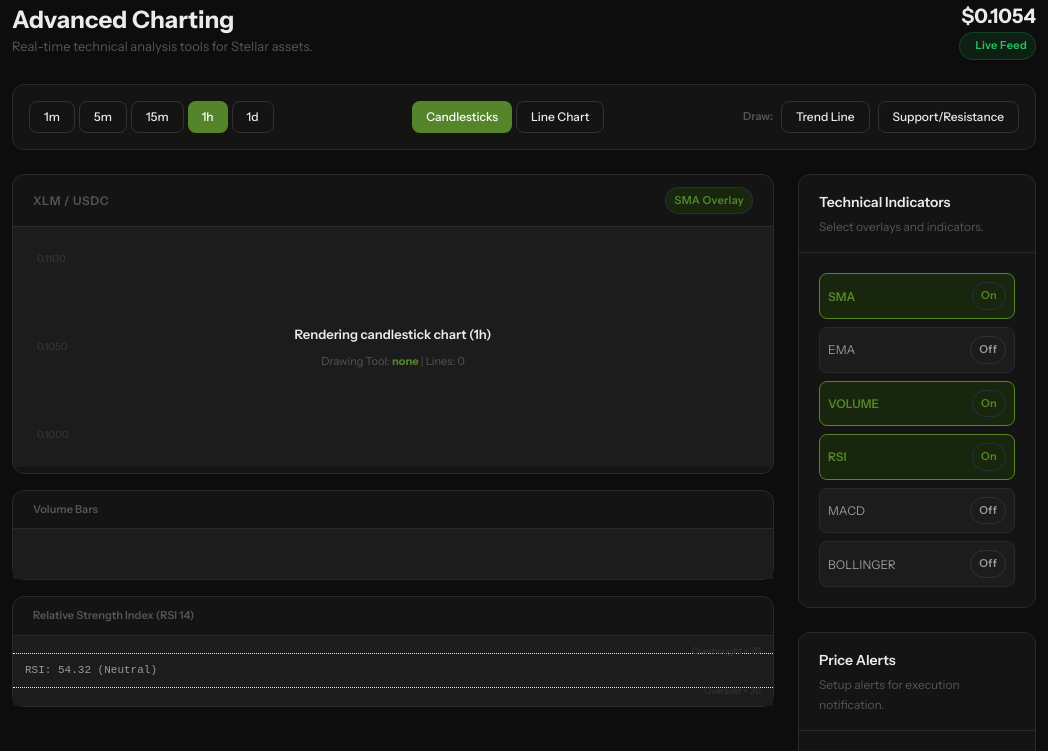
Test: ChartingScreen › toggles the volume indicator
Check: the heading "Volume Bars" is shown, box [33, 502, 98, 516]
Click the button "VOLUME On" at (917, 403), box [819, 381, 1015, 426]
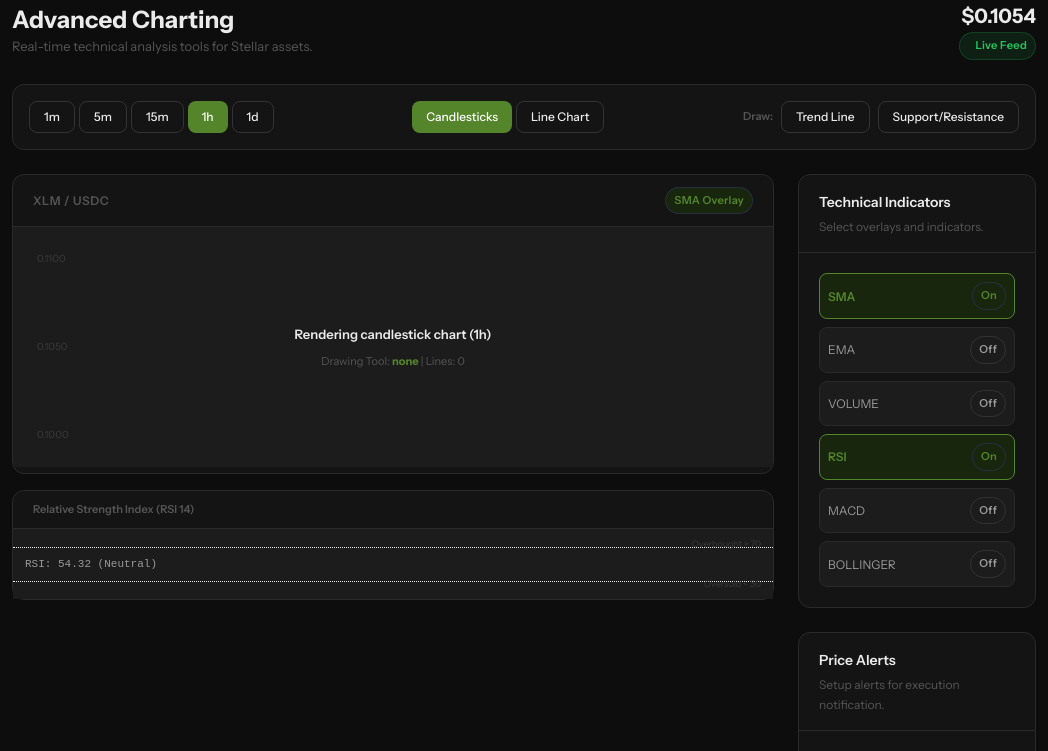
Check: the heading "Volume Bars" is gone
